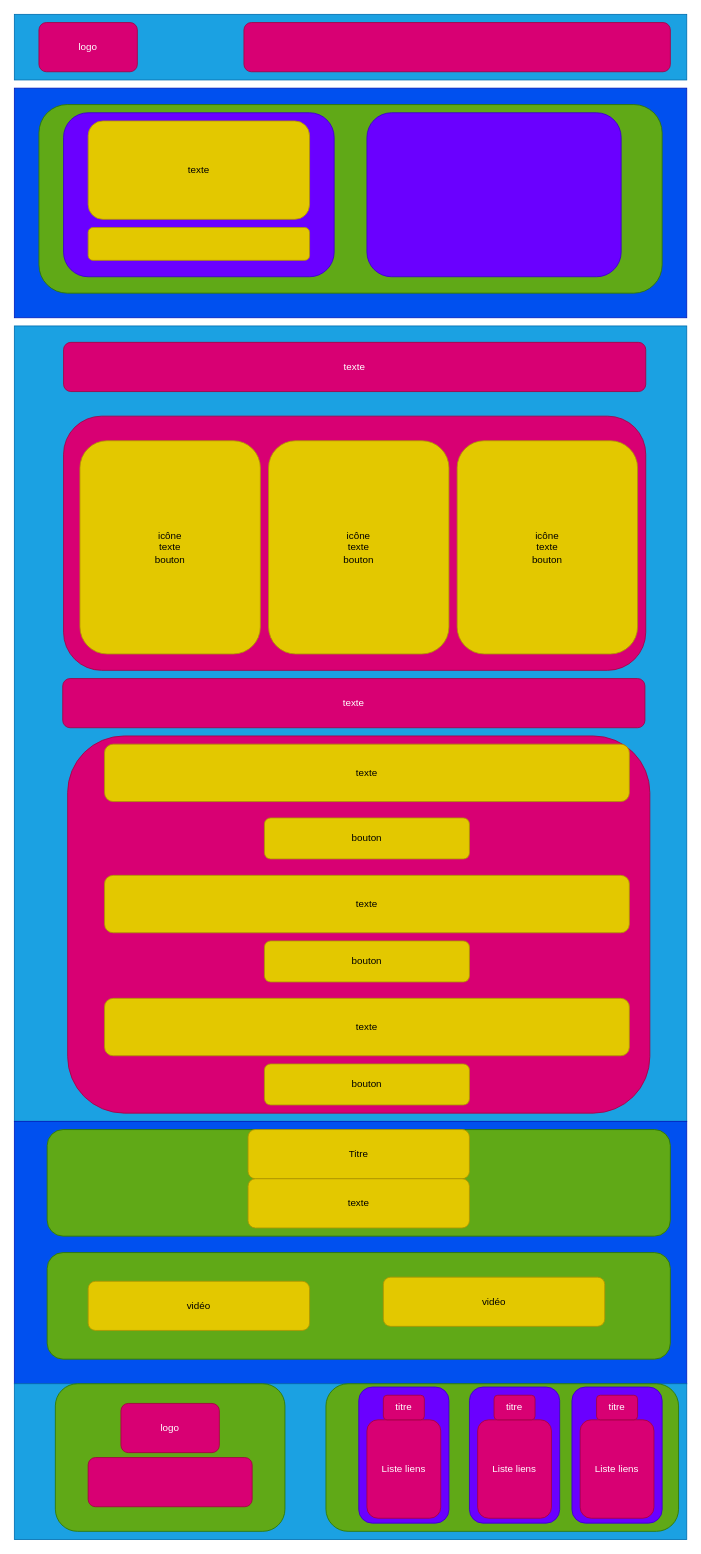
Image size: 701x1554. Some labels were removed from this diagram. The shapes that lost their labels are listed below. From the top down, each one's box as (x1, y1, x2, y2) in pixels, then its label:
(243, 22, 670, 72): Liste
(366, 112, 621, 277): toutes les photos
(87, 227, 310, 260): texte avec bouton
(87, 1457, 252, 1507): Liste logos
